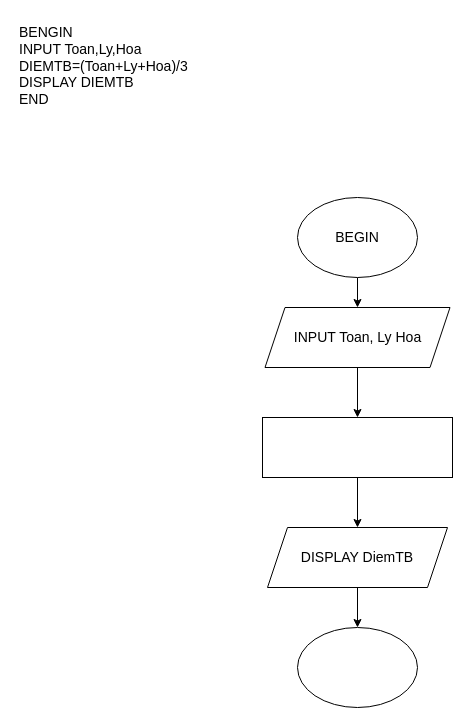
The diagram is 470 pixels wide and 725 high, and some of its shapes have lost their labels. Here are the shapes that lost their labels. From the top down, the centre of each, then its label:
At (x=357, y=447): "DiemTB=(Toan+Ly+Hoa)/3".
At (x=357, y=667): "END".
